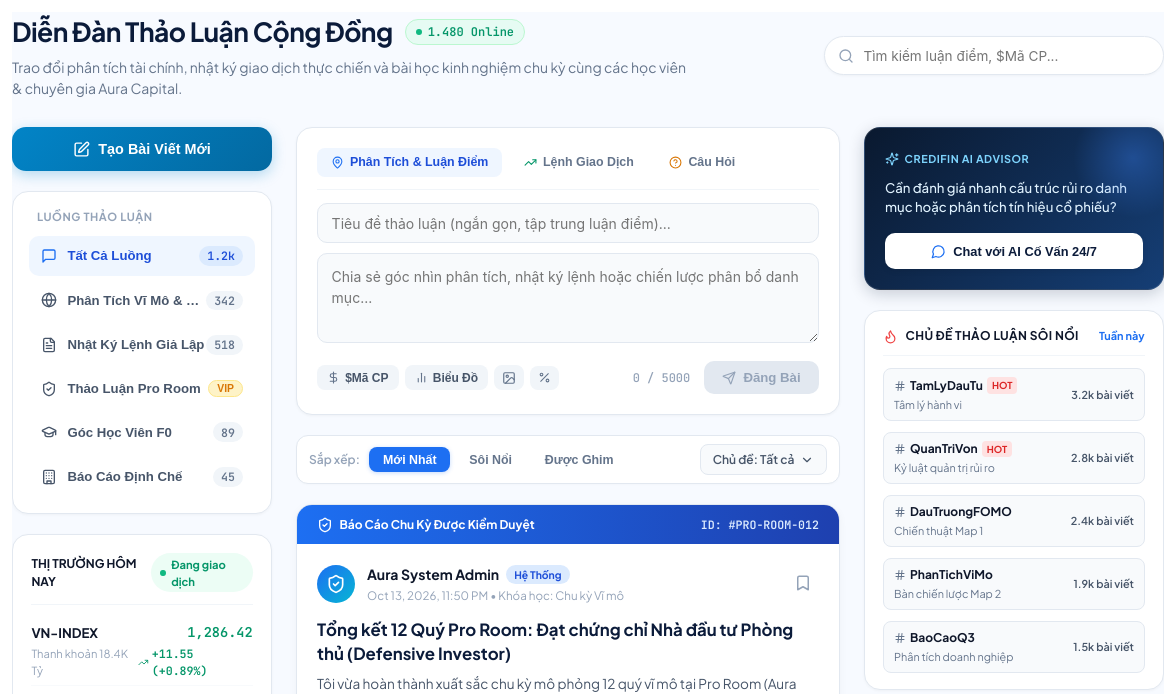
Test: CommunityFeedPage (Component & State - AC-001..AC-028) › displays rate-limit banner on 429 write rejection (AC-016)
Replace the text in the text box with test id "post-composer-textarea" with "Spam attempt": point(568, 298) 317,253 -> 819,343
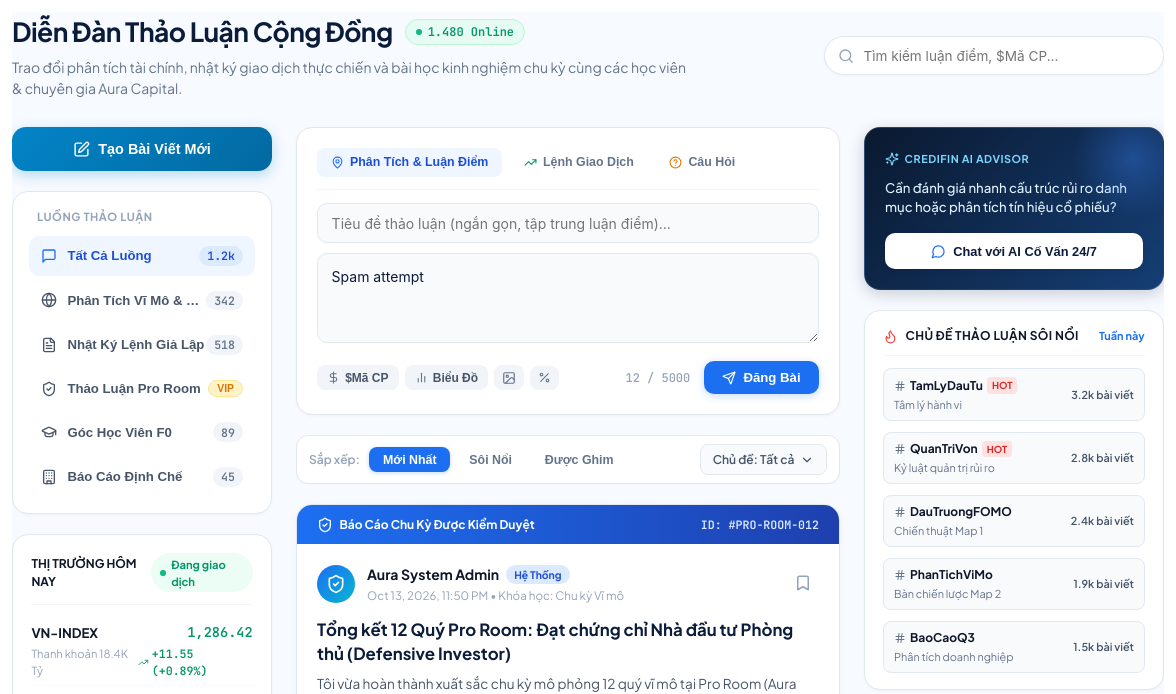
Click the button with test id "post-composer-submit-btn": point(761, 378) 704,361 -> 819,394
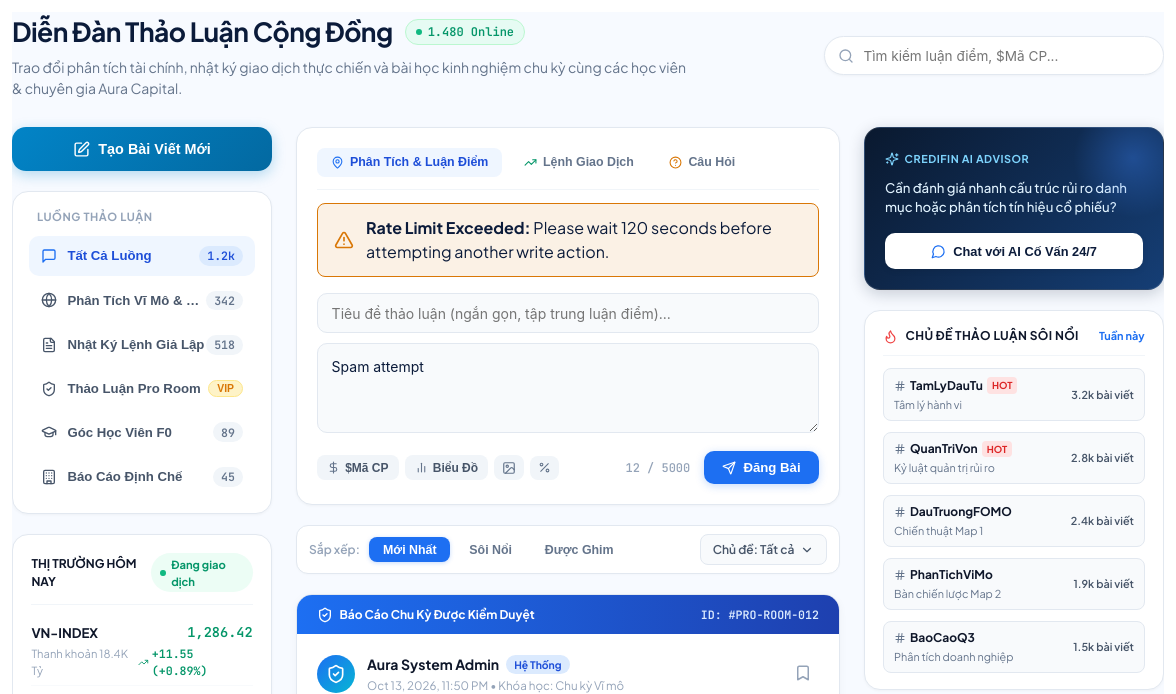
Now the message with test id "community-rate-limited-banner" is shown, box 317,203 -> 819,277
Now the text "Please wait 120 seconds" is shown, box 366,216 -> 802,264
